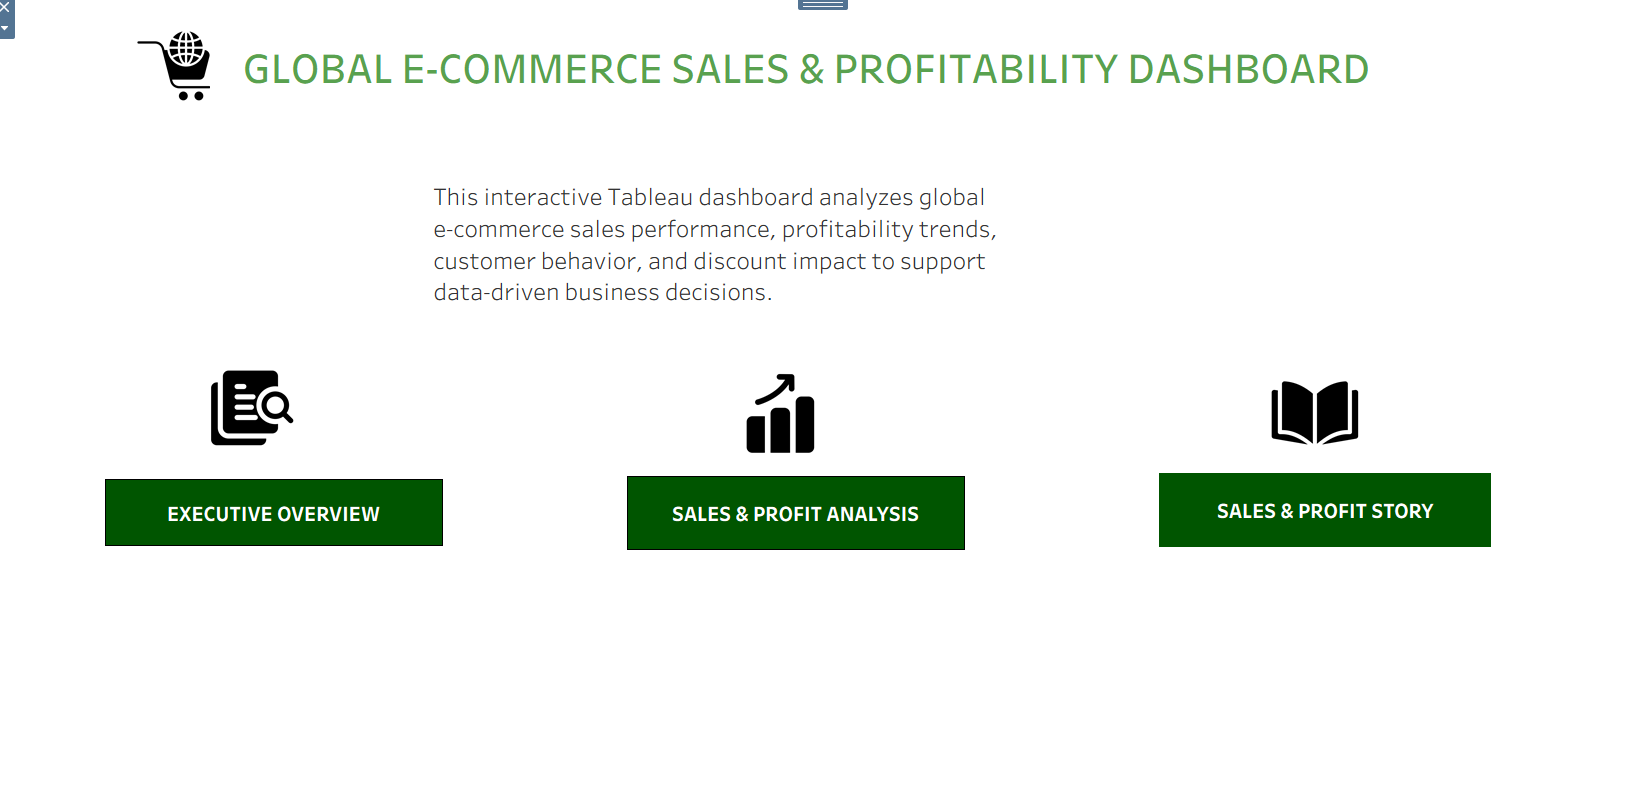

This screenshot's page, from the dashboard's own definition file:
{"tool":"tableau","page":{"name":"Home Page","canvas":[1000,1000],"units":"permille","ordinal":1},"visuals":[{"type":"text","box":[14.5,18.7,950.5,136.1]},{"type":"image","param":"C:/Users/Sreejith K R/Downloads/e-business.png","box":[85.7,40,56.7,91.1]},{"type":"text","box":[262.5,203.5,390.5,209.7]},{"type":"image","param":"C:/Users/Sreejith K R/Downloads/research.png","box":[126.7,455.7,54.9,113.6]},{"type":"image","param":"C:/Users/Sreejith K R/Downloads/book.png","box":[768.9,461.9,55.5,113.6]},{"type":"image","param":"C:/Users/Sreejith K R/Downloads/sales.png","box":[446.6,463.2,54.3,113.6]},{"type":"dashboard-object","box":[702.5,594.3,200.4,92.4]},{"type":"dashboard-object","box":[381.4,598,204,92.4]},{"type":"dashboard-object","box":[66.4,601.8,204,83.7]}]}

Visuals, with their boxes on the dashboard's canvas, which has no fixed pixel size, in thousandths of its width and height (x1, y1, x2, y2). These are canvas units, not pixel positions in the 1646x794 screenshot, which may show the page scaled, cropped or inside an application window:
text: 14:19:965:155
image: 86:40:142:131
text: 262:204:653:413
image: 127:456:182:569
image: 769:462:824:576
image: 447:463:501:577
dashboard-object: 702:594:903:687
dashboard-object: 381:598:585:690
dashboard-object: 66:602:270:686
